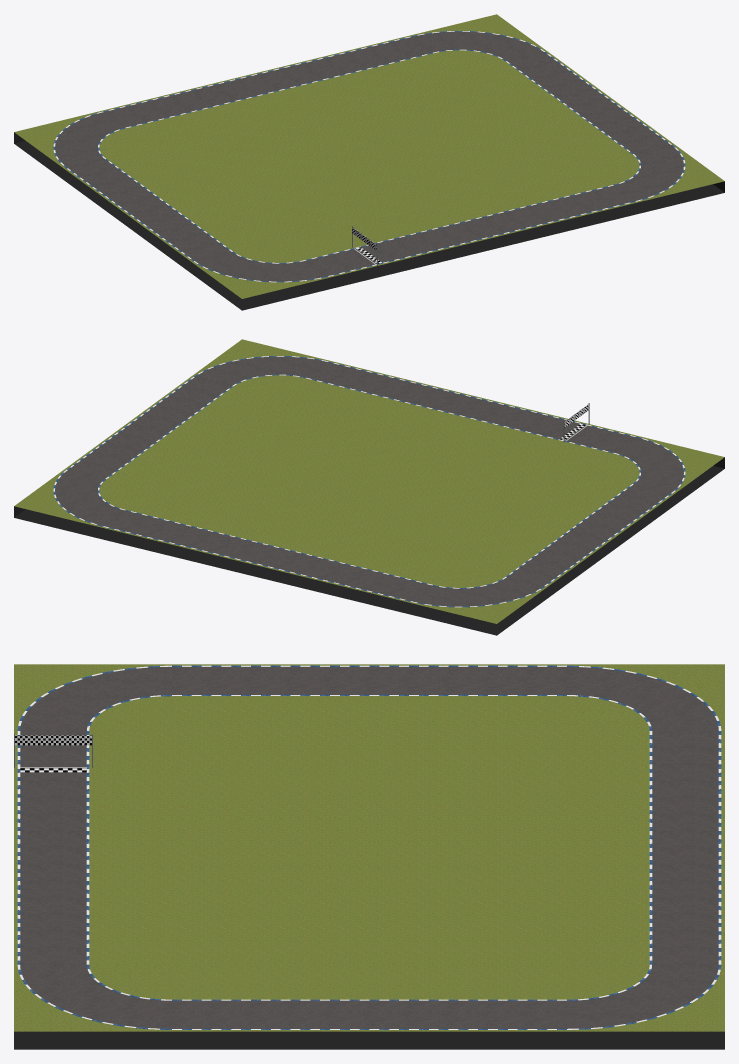
The model's file is minimap1.glb.
3 renders of one model, top to bottom at view 1: azimuth 30°, elevation 25°; view 2: azimuth 150°, elevation 25°; view 3: azimuth 270°, elevation 25°, orthographic. The views are drawn at different scales.
Visible parts, largest first — view 1: track0, support2_black; view 2: track0, support2_black; view 3: track0, support2_black, startLine.
Boxes of the visible parts, x1,y1,x2,y2 form: track0: (14,14,724,298); support2_black: (14,132,724,310); track0: (14,339,724,623); support2_black: (14,457,724,635); track0: (14,664,724,1031); support2_black: (14,1031,724,1049); startLine: (14,734,92,772).
Size of the model in its own units: 4.35 by 0.2816 by 3.56.
6 materials, 5 textured.
